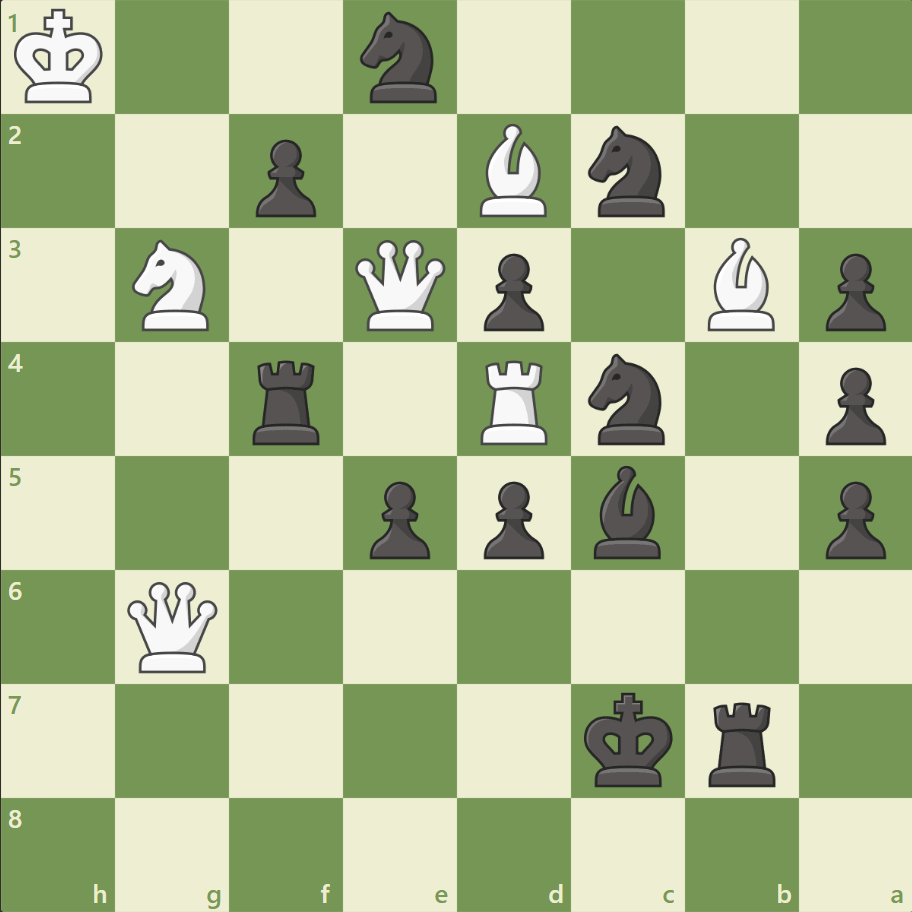B: (698, 233, 782, 336), (471, 120, 555, 222)
K: (11, 4, 111, 112)
N: (124, 234, 222, 337)
Q: (124, 576, 223, 676), (351, 236, 450, 335)
R: (473, 352, 556, 449)
b: (585, 460, 669, 563)
k: (579, 685, 679, 793)
n: (351, 7, 449, 110), (579, 348, 676, 450), (579, 121, 676, 223)
p: (474, 473, 549, 564), (474, 246, 549, 337), (247, 132, 322, 223), (815, 473, 889, 564), (361, 473, 435, 564), (815, 359, 889, 450), (815, 246, 889, 337)
r: (700, 693, 783, 790), (246, 352, 329, 449)
